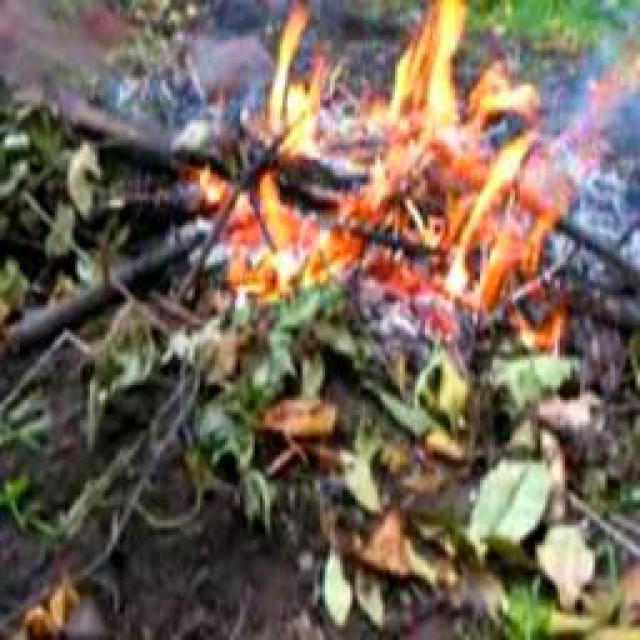Fire: (214, 11, 567, 288)
